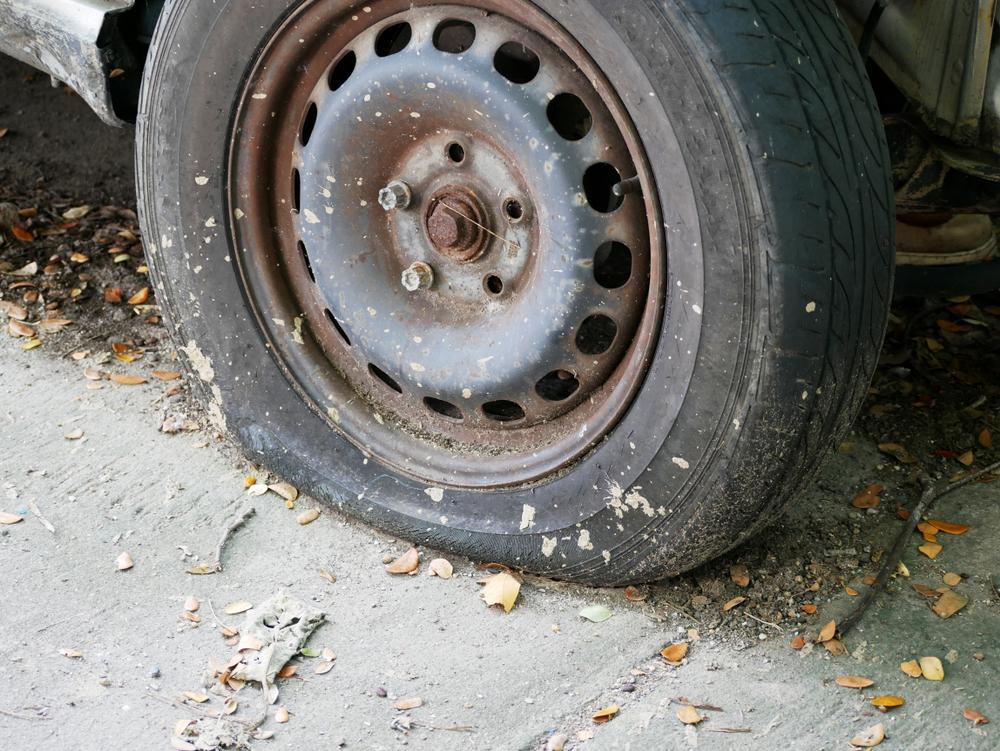tire flat: (136, 0, 896, 584)
